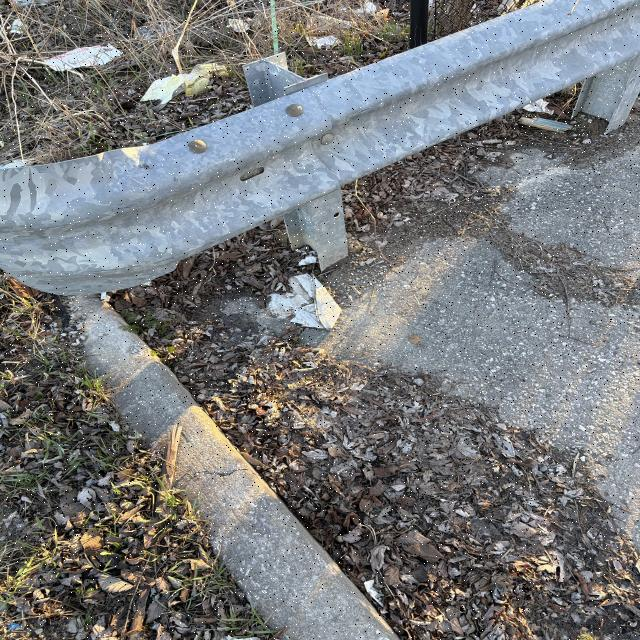Guard rail: (31, 6, 637, 260)
